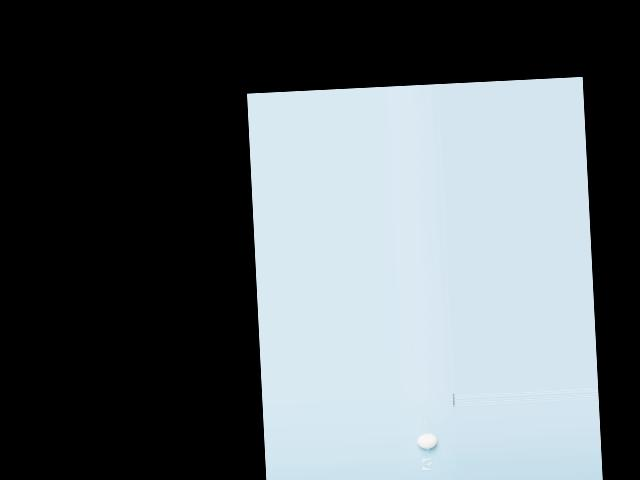egg: (417, 432, 437, 449)
